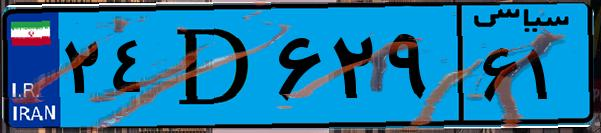1: (525, 38, 570, 115)
2: (330, 28, 385, 110), (57, 26, 110, 100)
4: (110, 28, 158, 98)
6: (270, 28, 330, 110), (475, 38, 525, 113)
9: (385, 28, 445, 110)
D: (158, 12, 270, 120)
